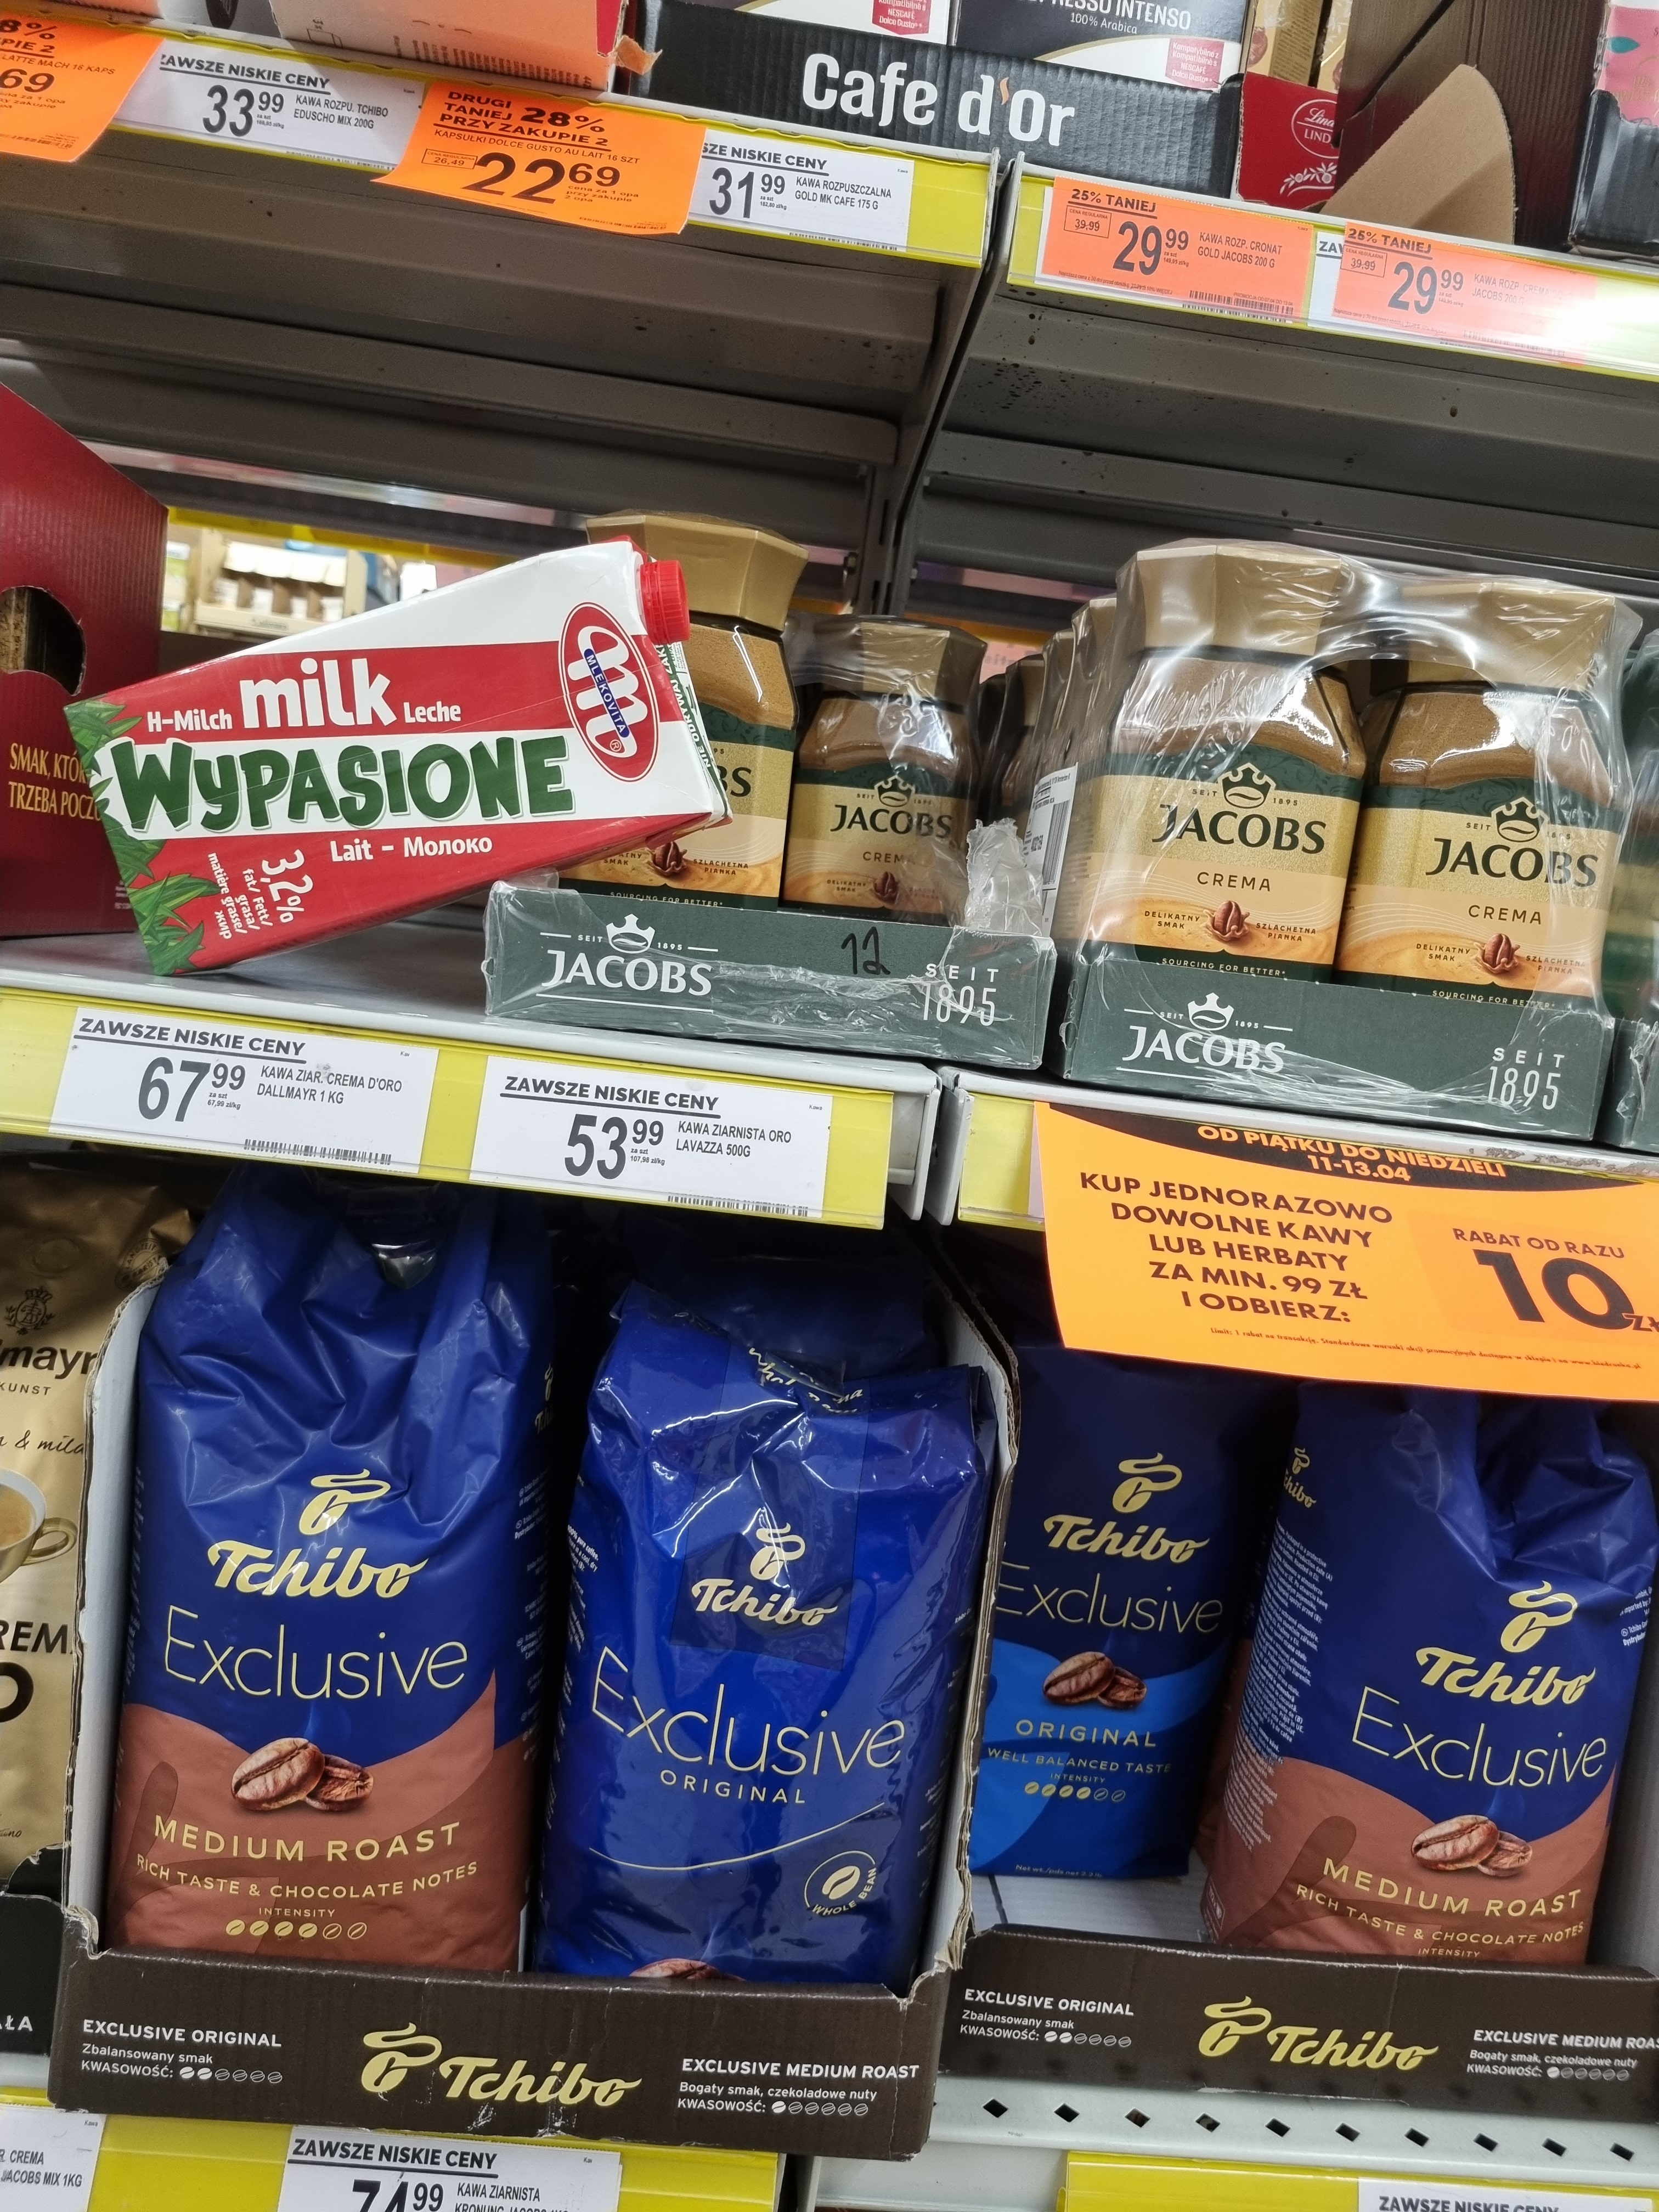Milk: (64, 533, 723, 996)
